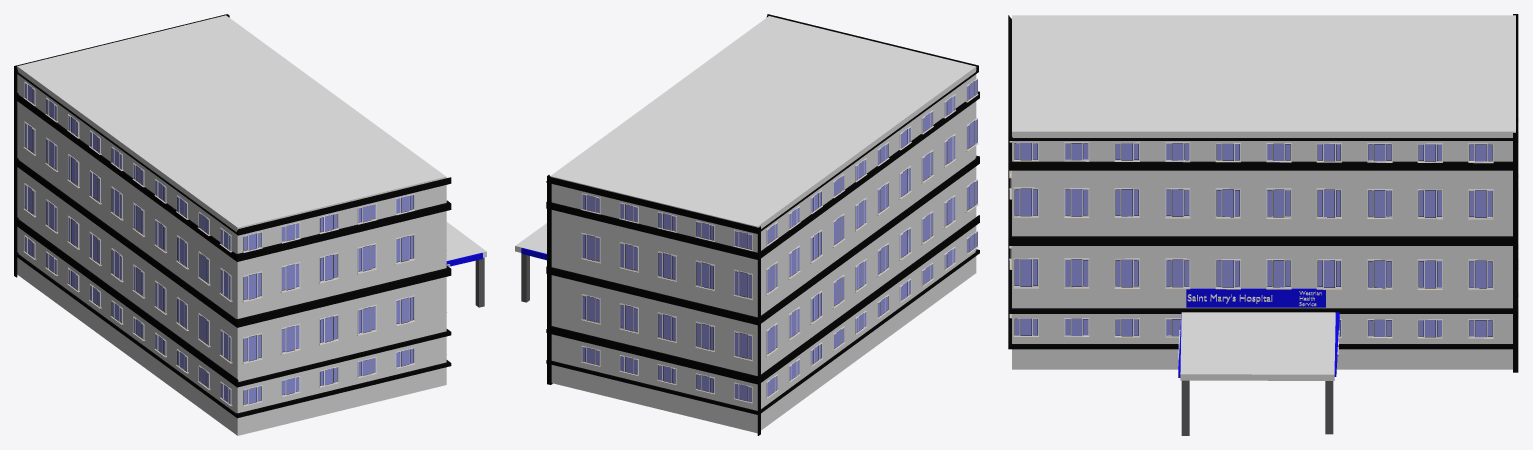
The model's file is SaintMary'sHospital.fbx.
3 views of the same model, side by side, from view 1: azimuth 30°, elevation 25°; view 2: azimuth 150°, elevation 25°; view 3: azimuth 270°, elevation 25° (orthographic). The views are drawn at different scales.
Visible parts, largest first — view 1: SaintMary'sHospital, HospitalDecoration, Window.009, Window.010, Window.005, Window.006, Window.011, Window.008, Window.004, Window.007, MainEntranceCanopy; view 2: SaintMary'sHospital, HospitalDecoration, Window.009, Window.010, Window.014, Window.013, Window.008, Window.011, Window.012, Window.015, MainEntranceCanopy; view 3: SaintMary'sHospital, HospitalDecoration, MainEntranceCanopy, Window.001, Window.002, Window.003, Window, SaintMary'sHospitalSign.
Boxes of the visible parts, left/top/right/bottom form: SaintMary'sHospital: left=17, top=15, right=446, bottom=435; HospitalDecoration: left=14, top=14, right=451, bottom=418; Window.009: left=23, top=121, right=232, bottom=301; Window.010: left=23, top=183, right=232, bottom=363; Window.005: left=242, top=234, right=414, bottom=302; Window.006: left=242, top=295, right=415, bottom=364; Window.011: left=23, top=235, right=232, bottom=405; Window.008: left=23, top=81, right=232, bottom=252; Window.004: left=242, top=194, right=414, bottom=252; Window.007: left=242, top=347, right=414, bottom=406; MainEntranceCanopy: left=446, top=222, right=486, bottom=307; SaintMary'sHospital: left=550, top=16, right=976, bottom=433; HospitalDecoration: left=546, top=14, right=979, bottom=435; Window.009: left=765, top=118, right=978, bottom=295; Window.010: left=766, top=179, right=978, bottom=356; Window.014: left=581, top=233, right=752, bottom=300; Window.013: left=581, top=294, right=752, bottom=361; Window.008: left=765, top=78, right=978, bottom=246; Window.011: left=766, top=230, right=978, bottom=398; Window.012: left=581, top=346, right=752, bottom=403; Window.015: left=581, top=193, right=752, bottom=251; MainEntranceCanopy: left=515, top=223, right=546, bottom=302; SaintMary'sHospital: left=1012, top=15, right=1515, bottom=369; HospitalDecoration: left=1008, top=14, right=1518, bottom=372; MainEntranceCanopy: left=1180, top=312, right=1335, bottom=435; Window.001: left=1013, top=258, right=1493, bottom=290; Window.002: left=1013, top=187, right=1493, bottom=219; Window.003: left=1013, top=142, right=1493, bottom=163; Window: left=1013, top=318, right=1493, bottom=338; SaintMary'sHospitalSign: left=1186, top=288, right=1325, bottom=307.
Bounding box in the file's own units: 4293 × 2640 × 5054.
